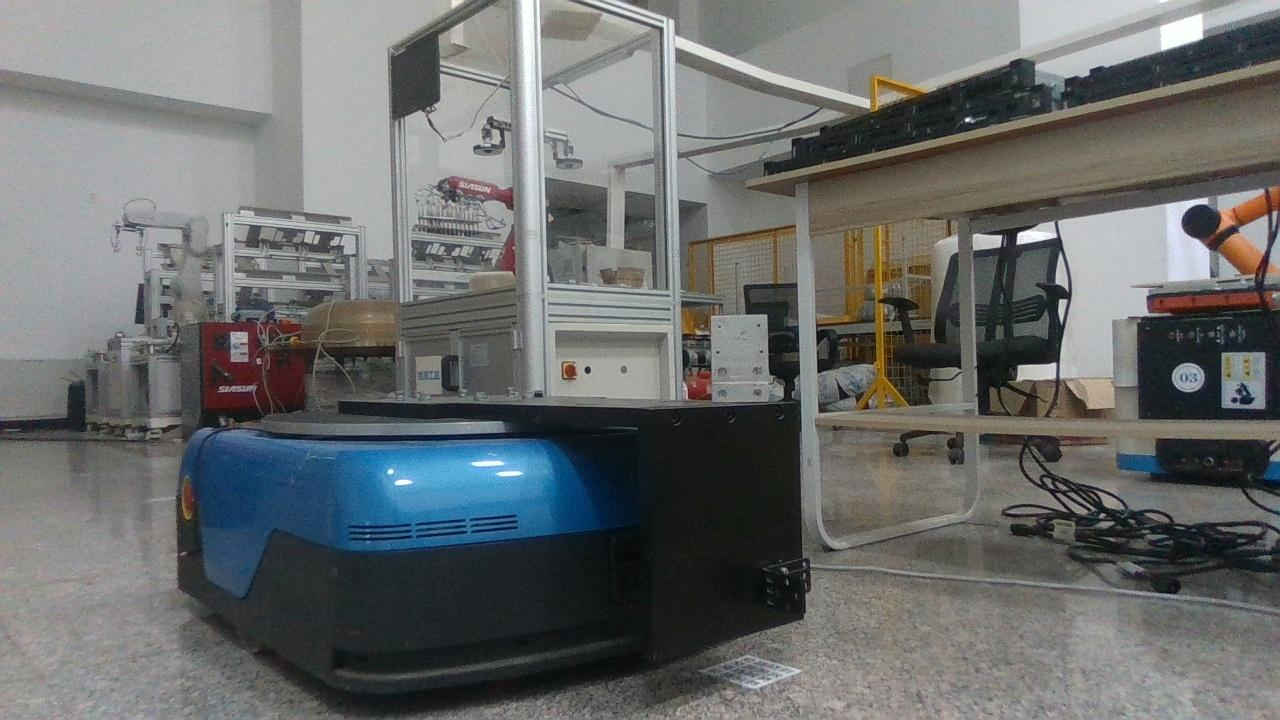AGV: (175, 398, 811, 692)
